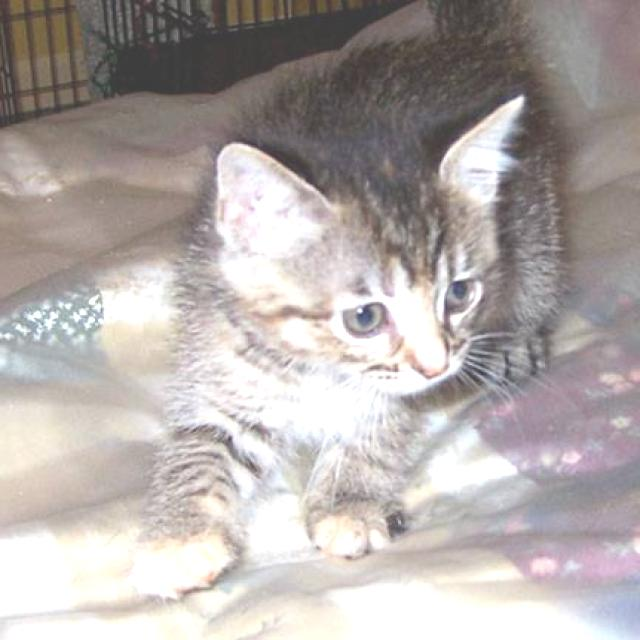Kucing: (53, 0, 591, 623)
